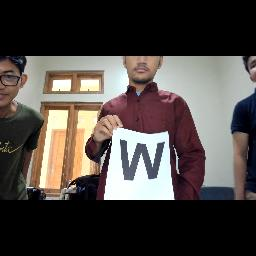w: (118, 135, 166, 183)
